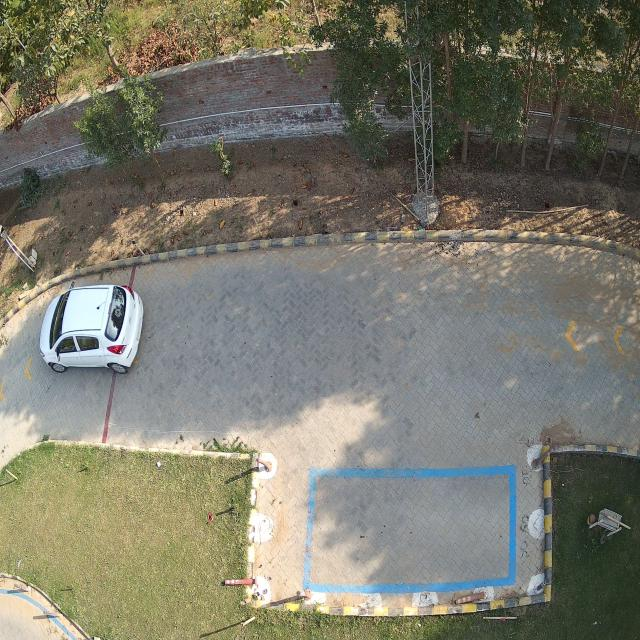car: (39, 285, 144, 376)
